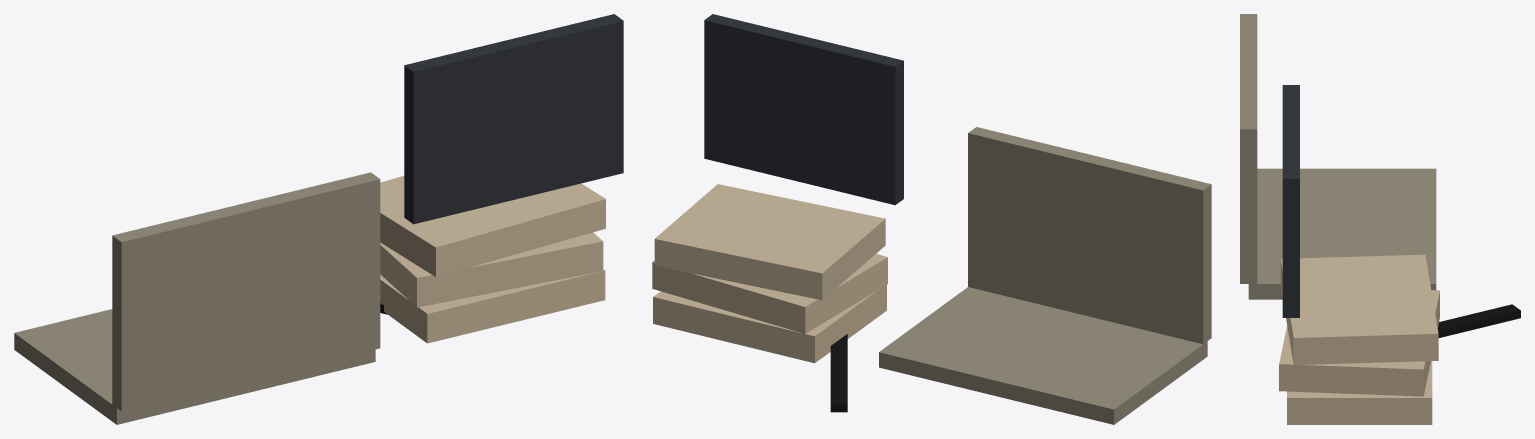
Rendered from station_processing_2.glb.
3 renders of one model, left to right at view 1: azimuth 30°, elevation 25°; view 2: azimuth 150°, elevation 25°; view 3: azimuth 270°, elevation 25°, orthographic. The views are drawn at different scales.
Parts seen in each view (by area): view 1: laptop_lehne, monitor_rahmen, buch_2, laptop_deck, buch_1, buch_0; view 2: laptop_lehne, monitor_rahmen, laptop_deck, buch_2, buch_1, buch_0, kabel_lose; view 3: laptop_deck, buch_2, buch_1, laptop_lehne, buch_0, monitor_rahmen, kabel_lose.
Boxes of the visible parts, left/top/right/bottom form: laptop_lehne: left=112, top=172, right=380, bottom=411; monitor_rahmen: left=404, top=14, right=623, bottom=224; buch_2: left=380, top=176, right=605, bottom=276; laptop_deck: left=14, top=309, right=375, bottom=424; buch_1: left=380, top=232, right=603, bottom=307; buch_0: left=380, top=269, right=605, bottom=343; laptop_lehne: left=968, top=127, right=1211, bottom=344; monitor_rahmen: left=704, top=14, right=903, bottom=205; laptop_deck: left=879, top=287, right=1207, bottom=424; buch_2: left=654, top=184, right=885, bottom=300; buch_1: left=652, top=253, right=887, bottom=333; buch_0: left=653, top=285, right=886, bottom=363; kabel_lose: left=830, top=334, right=847, bottom=412; laptop_deck: left=1248, top=168, right=1436, bottom=299; buch_2: left=1280, top=254, right=1438, bottom=364; buch_1: left=1279, top=290, right=1439, bottom=396; laptop_lehne: left=1240, top=14, right=1257, bottom=283; buch_0: left=1287, top=361, right=1432, bottom=424; monitor_rahmen: left=1282, top=85, right=1299, bottom=317; kabel_lose: left=1437, top=304, right=1520, bottom=337.
Bounding box in the file's own units: 0.65 × 0.33 × 0.3289.
